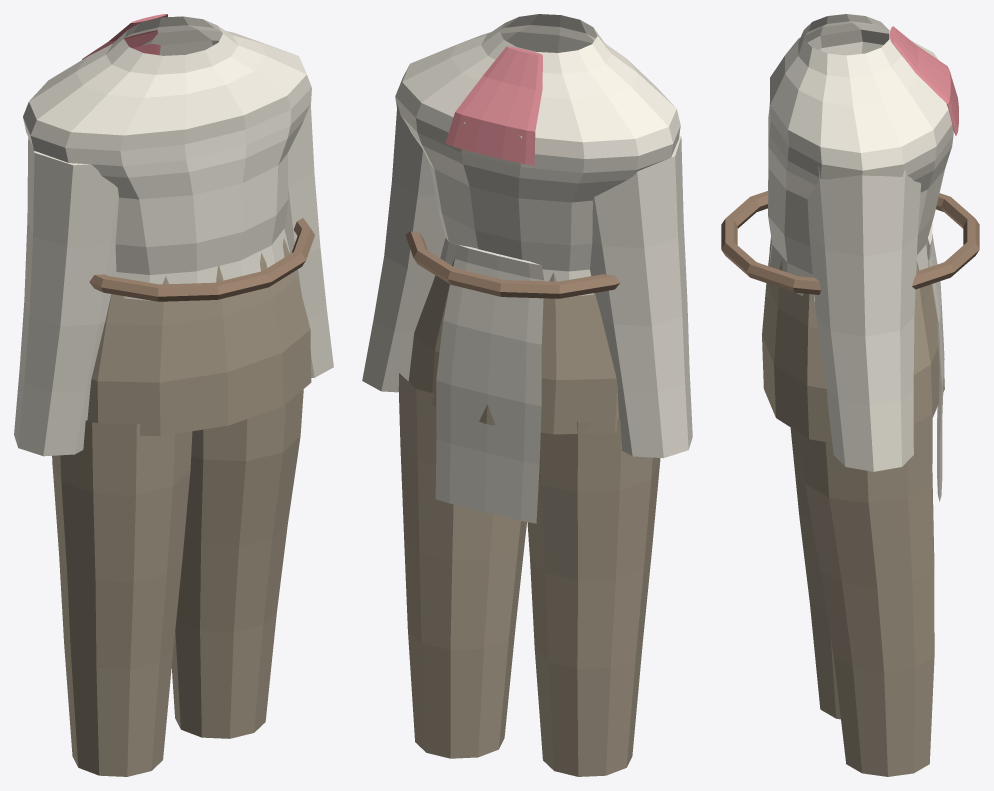
File: 19-NPCs_vestimenta_campesina.glb
3 renders of one model, left to right at view 1: azimuth 30°, elevation 25°; view 2: azimuth 150°, elevation 25°; view 3: azimuth 270°, elevation 25°, orthographic. The views are drawn at different scales.
Parts seen in each view (by area): view 1: SM_Camp_M_Camp_Pantalon, SM_Camp_M_Camp_Lino, SM_Camp_M_Camp_Cuerda, SM_Camp_M_Camp_Panuelo; view 2: SM_Camp_M_Camp_Lino, SM_Camp_M_Camp_Pantalon, SM_Camp_M_Camp_Panuelo, SM_Camp_M_Camp_Cuerda; view 3: SM_Camp_M_Camp_Lino, SM_Camp_M_Camp_Pantalon, SM_Camp_M_Camp_Cuerda, SM_Camp_M_Camp_Panuelo.
Boxes of the visible parts, left/top/right/bottom form: SM_Camp_M_Camp_Pantalon: left=52, top=238, right=311, bottom=776; SM_Camp_M_Camp_Lino: left=14, top=16, right=333, bottom=456; SM_Camp_M_Camp_Cuerda: left=89, top=218, right=314, bottom=301; SM_Camp_M_Camp_Panuelo: left=82, top=14, right=167, bottom=59; SM_Camp_M_Camp_Lino: left=362, top=14, right=692, bottom=523; SM_Camp_M_Camp_Pantalon: left=398, top=258, right=660, bottom=776; SM_Camp_M_Camp_Panuelo: left=445, top=46, right=542, bottom=165; SM_Camp_M_Camp_Cuerda: left=405, top=231, right=620, bottom=298; SM_Camp_M_Camp_Lino: left=768, top=14, right=953, bottom=501; SM_Camp_M_Camp_Pantalon: left=762, top=239, right=944, bottom=776; SM_Camp_M_Camp_Cuerda: left=721, top=191, right=979, bottom=294; SM_Camp_M_Camp_Panuelo: left=890, top=26, right=958, bottom=135.
Bounding box in the file's own units: 0.55 × 1.18 × 0.3997.
